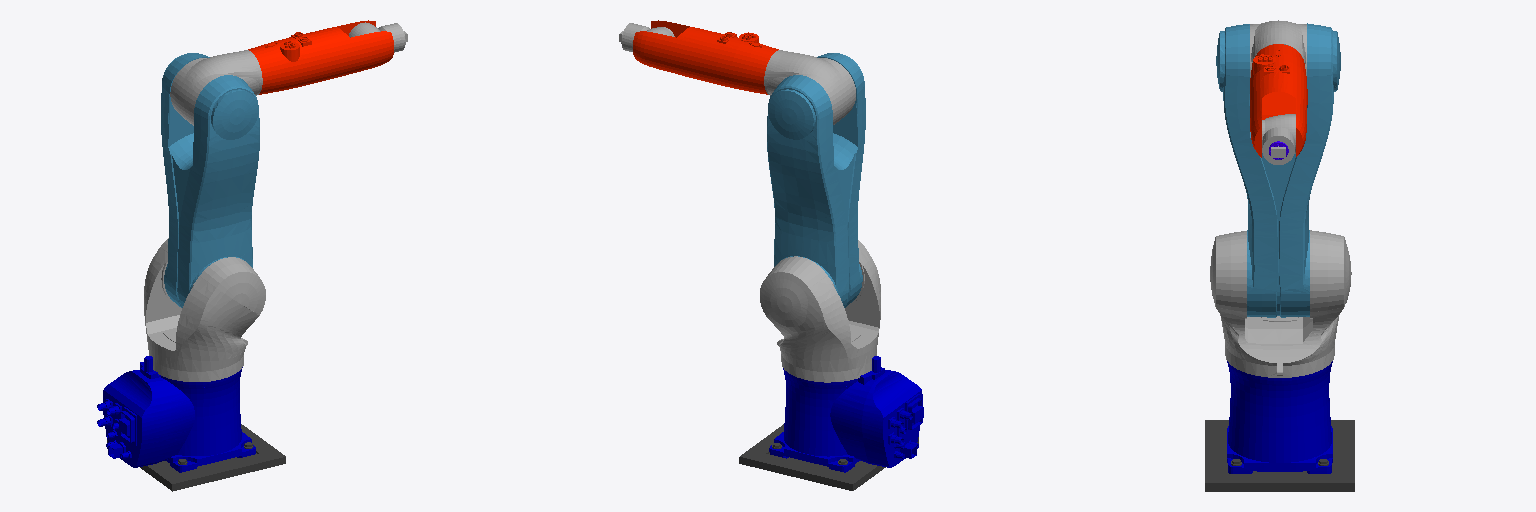
The robot description file, URDF, robot "kuca":
<?xml version="1.0" ?>
<robot name="kuca">
  <material name="DarkGrey">
    <color rgba="0.3 0.3 0.3 1.0"/>
  </material>
  <material name="Red">
    <color rgba="0.8 0.1 0.1 1.0"/>
  </material>
  <material name="Black">
    <color rgba="0 0 0 1.0"/>
  </material>
  <material name="Orange">
    <color rgba="1.46 0.18 0 1.0"/>
  </material>
  <material name="Purple">
    <color rgba="0.28 0 1 1.0"/>
  </material>
  <material name="Silver">
    <color rgba="0.7 0.7 0.7 1.0"/>
  </material>
  <material name="Blue">
    <color rgba="0.0 0.0 0.8 1.0"/>
  </material>
  <material name="HandGray">
    <color rgba="0.953 0.996 0.694 1.0"/>
  </material>
  <material name="SickBlue">
    <color rgba="0.3058 0.5921 0.7294 1.0"/>
  </material>
  <property name="M_PI" value="3.1415926535897931" />

  <link name="base_footprint"/>
  <joint name="base_joint" type="fixed">
    <parent link="base_footprint" />
    <child link="base_block" />
  </joint>
  <link name="base_block">
    <inertial>
      <origin
        xyz="1.037E-17 7.83691112281593E-18 0.0082118"
        rpy="0 0 0" />
      <mass
        value="1.4148" />
      <inertia
        ixx="0.0114960388311253"
        ixy="1.89424360274643E-19"
        ixz="2.69057794485044E-19"
        iyy="0.0114960388311253"
        iyz="5.63211128145318E-19"
        izz="0.0229111452195995" />
    </inertial>
    <visual>
      <origin
        xyz="0 0 0"
        rpy="1.5707963267949 0 -1.5707963267949" />
      <geometry>
        <mesh
          filename="package://kuca/meshes/base_block.STL" />
      </geometry>
      <material
        name="DarkGrey">
      </material>
    </visual>
    <collision>
      <origin
        xyz="0 0 0"
        rpy="1.5707963267949 0 -1.5707963267949" />
      <geometry>
        <mesh
          filename="package://kuca/meshes/base_block.STL" />
      </geometry>
    </collision>
  </link>


  <link
    name="base">
    <inertial>
      <origin
        xyz="5.6349E-05 -0.04397 -0.017791"
        rpy="0 0 0" />
      <mass
        value="10.172" />
      <inertia
        ixx="0.102023800624414"
        ixy="-0.000107116174504951"
        ixz="-9.75248573495788E-06"
        iyy="0.062609943615707"
        iyz="-0.00142550304062349"
        izz="0.0916918280232079" />
    </inertial>
    <visual>
      <origin
        xyz="0 0 0"
        rpy="1.5707963267949 0 -1.5707963267949" />
      <geometry>
        <mesh
          filename="package://kuca/meshes/base.STL" />
      </geometry>
      <material
        name="Blue">
      </material>
    </visual>
    <collision>
      <origin
        xyz="0 0 0"
        rpy="1.5707963267949 0 -1.5707963267949" />
      <geometry>
        <mesh
          filename="package://kuca/meshes/base.STL" />
      </geometry>
    </collision>
  </link>


  <link
    name="shoulder_link">
    <inertial>
      <origin
        xyz="0.0026224 -0.010587 0.12449"
        rpy="0 0 0" />
      <mass
        value="6.8543" />
      <inertia
        ixx="0.0603332762386758"
        ixy="-0.000112250807649033"
        ixz="0.000740664456382333"
        iyy="0.0888387681852521"
        iyz="0.00782667396558345"
        izz="0.0647349454810532" />
    </inertial>
    <visual>
      <origin
        xyz="0 0 0"
        rpy="1.5707963267949 0 1.5707963267949" />
      <geometry>
        <mesh
          filename="package://kuca/meshes/shoulder.STL" />
      </geometry>
      <material
        name="Silver">
      </material>
    </visual>
    <collision>
      <origin
        xyz="0 0 0"
        rpy="1.5707963267949 0 1.5707963267949" />
      <geometry>
        <mesh
          filename="package://kuca/meshes/shoulder.STL" />
      </geometry>
    </collision>
  </link>




  <link
    name="arm_b">
    <inertial>
      <origin
        xyz="0.00011216 2.06500000013295E-07 0.21713"
        rpy="0 0 0" />
      <mass
        value="11.489" />
      <inertia
        ixx="0.331397608900224"
        ixy="2.49938270567373E-08"
        ixz="-0.000215486662794939"
        iyy="0.344625387728064"
        iyz="-1.88762475058406E-07"
        izz="0.0590170414718575" />
    </inertial>
    <visual>
      <origin
        xyz="0 0 0"
        rpy="1.5707963267949 0 -1.5707963267949" />
      <geometry>
        <mesh
          filename="package://kuca/meshes/arm_b.STL" />
      </geometry>
      <material
        name="SickBlue">
      </material>
    </visual>
    <collision>
      <origin
        xyz="0 0 0"
        rpy="1.5707963267949 0 -1.5707963267949" />
      <geometry>
        <mesh
          filename="package://kuca/meshes/arm_b.STL" />
      </geometry>
    </collision>
  </link>


  <link
    name="elbow_link">
    <inertial>
      <origin
        xyz="-4.7606E-07 -0.01528 0.0092017"
        rpy="0 0 0" />
      <mass
        value="2.755" />
      <inertia
        ixx="0.0104371376924703"
        ixy="2.6533905193E-08"
        ixz="-4.60729058315338E-08"
        iyy="0.00758558375613676"
        iyz="0.00135288427713708"
        izz="0.00932285267361665" />
    </inertial>
    <visual>
      <origin
        xyz="0 0 0"
        rpy="1.5707963267949 0 1.5707963267949" />
      <geometry>
        <mesh
          filename="package://kuca/meshes/elbow.STL" />
      </geometry>
      <material
        name="Silver">
      </material>
    </visual>
    <collision>
      <origin
        xyz="0 0 0"
        rpy="1.5707963267949 0 1.5707963267949" />
      <geometry>
        <mesh
          filename="package://kuca/meshes/elbow.STL" />
      </geometry>
    </collision>
  </link>


  <link
    name="arm_s">
    <inertial>
      <origin
        xyz="0.13364 -0.00024742 0.00047158"
        rpy="0 0 0" />
      <mass
        value="2.7294" />
      <inertia
        ixx="0.00460008200188941"
        ixy="3.62991158649236E-05"
        ixz="-5.99299167518797E-05"
        iyy="0.0196337744489857"
        iyz="3.41608949422413E-05"
        izz="0.0199430288231592" />
    </inertial>
    <visual>
      <origin
        xyz="0 0 0"
        rpy="1.5707963267949 0 0" />
      <geometry>
        <mesh
          filename="package://kuca/meshes/arm_s.STL" />
      </geometry>
      <material
        name="Orange">
      </material>
    </visual>
    <collision>
      <origin
        xyz="0 0 0"
        rpy="1.5707963267949 0 0" />
      <geometry>
        <mesh
          filename="package://kuca/meshes/arm_s.STL" />
      </geometry>
    </collision>
  </link>


  <link
    name="hand_base">
    <inertial>
      <origin
        xyz="-4.3071E-18 -0.0059096 4.77958466854274E-17"
        rpy="0 0 0" />
      <mass
        value="0.013336" />
      <inertia
        ixx="1.69048792206978E-06"
        ixy="2.35299624289122E-22"
        ixz="-7.52863604393964E-22"
        iyy="2.98903665829106E-06"
        iyz="2.34800683625242E-21"
        izz="1.69048792206977E-06" />
    </inertial>
    <visual>
      <origin
        xyz="0 0 0"
        rpy="1.5707963267949 0 1.5707963267949" />
      <geometry>
        <mesh
          filename="package://kuca/meshes/hand_base.STL" />
      </geometry>
      <material
        name="Purple">
      </material>
    </visual>
    <collision>
      <origin
        xyz="0 0 0"
        rpy="1.5707963267949 0 1.5707963267949" />
      <geometry>
        <mesh
          filename="package://kuca/meshes/hand_base.STL" />
      </geometry>
    </collision>
  </link>


  <link
    name="wrist_link">
    <inertial>
      <origin
        xyz="0.0020848 -0.015368 3.4479000000941E-08"
        rpy="0 0 0" />
      <mass
        value="0.44218" />
      <inertia
        ixx="0.000527507627789706"
        ixy="1.79837648816872E-05"
        ixz="-7.11888768534321E-10"
        iyy="0.00031938655071935"
        iyz="-5.96429677534505E-10"
        izz="0.000560139929899567" />
    </inertial>
    <visual>
      <origin
        xyz="0 0 0"
        rpy="1.5707963267949 0 1.5707963267949" />
      <geometry>
        <mesh
          filename="package://kuca/meshes/wrist.STL" />
      </geometry>
      <material
        name="Silver">
      </material>
    </visual>
    <collision>
      <origin
        xyz="0 0 0"
        rpy="1.5707963267949 0 1.5707963267949" />
      <geometry>
        <mesh
          filename="package://kuca/meshes/wrist.STL" />
      </geometry>
    </collision>
  </link>

  <joint name="fixed_joint" type="fixed">
    <origin xyz="0 0 0.14336"/>
    <parent link="base_block"/>
    <child link="base"/>
  </joint>
  <joint name="base_shoulder_joint" type="continuous">
    <origin xyz="0 0 0.08657"/>
    <axis xyz="0 0 1"/>
    <parent link="base"/>
    <child link="shoulder_link"/>
  </joint>
  <joint name="shoulder_armb_joint" type="continuous">
    <origin xyz="0.03487 -0.0028 0.19512"/>
    <axis xyz="0 1 0" />
    <parent link="shoulder_link"/>
    <child link="arm_b"/>
  </joint>  
  <joint name="armb_elbow_joint" type="continuous">
    <origin xyz="0 0 0.46634"/>
    <axis xyz="0 1 0" />
    <parent link="arm_b"/>
    <child link="elbow_link"/>
  </joint>  
  <joint name="elbow_arms_joint" type="continuous">
    <origin xyz="0.1165 0 0.035"/>
    <axis xyz="1 0 0" />
    <parent link="elbow_link"/>
    <child link="arm_s"/>
  </joint>  
  <joint name="arms_handbase_joint" type="continuous">
    <origin xyz="0.303 0 0"/>
    <axis xyz="0 1 0" />
    <parent link="arm_s"/>
    <child link="wrist_link"/>
  </joint>
  <joint name="handbase_wrist_joint" type="continuous">
    <origin xyz="0.066252 0 0"/>
    <axis xyz="1 0 0" />
    <parent link="wrist_link"/>
    <child link="hand_base"/>
  </joint>

  
  <link name="gripper_base">
    <inertial>
      <origin
        xyz="2.3164E-19 8.88976163462408E-19 0.011563"
        rpy="0 0 0" />
      <mass
        value="0.0091416" />
      <inertia
        ixx="5.60915290578536E-07"
        ixy="-3.0881409535313E-23"
        ixz="-2.26976902761232E-23"
        iyy="8.10915290578536E-07"
        iyz="-1.05731144748763E-23"
        izz="8.0707963267949E-07" />
    </inertial>
    <visual>
      <origin
        xyz="0 0 0"
        rpy="0 0 -1.5707963267949" />
      <geometry>
        <mesh
          filename="package://kuca/meshes/gripper_base.STL" />
      </geometry>
      <material
        name="Silver">
      </material>
    </visual>
    <collision>
      <origin
        xyz="0 0 0"
        rpy="0 0 -1.5707963267949" />
      <geometry>
        <mesh
          filename="package://kuca/meshes/gripper_base.STL" />
      </geometry>
    </collision>
  </link>
  
  <joint name="handbase_gripperbase_joint" type="fixed">
    <origin xyz="0.0060 0 0"/>
    <parent link="hand_base"/>
    <child link="gripper_base"/>
  </joint>

  <link name="gripper_active_finger_link">
    <inertial>
      <mass value="0.00001"/>
      <origin xyz="0 0 0"/>
      <inertia ixx="1.0" ixy="0.0" ixz="0.0" iyy="1.0" iyz="0.0" izz="1.0"/>
    </inertial>
    <visual>
      <origin rpy="1.5707963267949 0 0" xyz=" 0 0 0 "/>
      <geometry>
        <mesh filename="package://kuca/meshes/finger.stl" scale="0.0005 0.0005 0.0005"/>
      </geometry>
      <material name="Red"/>
    </visual>
    <collision>
      <origin rpy="1.5707963267949 0 0" xyz=" 0 0 0 "/>
      <geometry>
        <mesh filename="package://kuca/meshes/finger.stl" scale="0.0005 0.0005 0.0005"/>
      </geometry>
    </collision>
  </link>
  <joint name="gripper_active_finger_joint" type="continuous">
    <origin rpy="0 0 0" xyz="0.020 -0.0151 0"/>
    <axis xyz="0 0 1" />
    <parent link="gripper_base"/>
    <child link="gripper_active_finger_link"/>
  </joint>
  <link name="gripper_static_finger_link">
    <inertial>
      <mass value="0.00001"/>
      <origin xyz="0 0 0"/>
      <inertia ixx="1.0" ixy="0.0" ixz="0.0" iyy="1.0" iyz="0.0" izz="1.0"/>
    </inertial>
    <visual>
      <origin rpy="-1.5707963267949 0 0" xyz=" 0 0 0 "/>
      <geometry>
        <mesh filename="package://kuca/meshes/finger.stl" scale="0.0005 0.0005 0.0005"/>
      </geometry>
      <material name="Red"/>
    </visual>
    <collision>
      <origin rpy="-1.5707963267949 0 0" xyz=" 0 0 0 "/>
      <geometry>
        <mesh filename="package://kuca/meshes/finger.stl" scale="0.0005 0.0005 0.0005"/>
      </geometry>
    </collision>
  </link>
  <joint name="gripper_static_finger_joint" type="fixed">
    <origin rpy="0 0 0" xyz="0.020 0.0151 0"/>
    <parent link="gripper_base"/>
    <child link="gripper_static_finger_link"/>
  </joint>
  <joint name="gripper_joint" type="fixed">
    <origin rpy="0 0 0" xyz="0.046 0 0"/>
    <parent link="gripper_base"/>
    <child link="gripper_link"/>
  </joint>
  <link name="gripper_link">
    <visual>
      <origin rpy="0 0 0" xyz="0 0 0"/>
      <geometry>
        <box size="0.001 0.001 0.001"/>
      </geometry>
    </visual>
    <collision>
      <origin rpy="0 0 0" xyz="-0.05 0 0"/>
      <geometry>
        <box size="0.001 0.001 0.001"/>
      </geometry>
    </collision>
    <!--inertial>
         <mass value="0.0012" />
         <origin xyz="0 0 0"/>
         <inertia ixx="2e-8" ixy="0.0" ixz="0.0"
          iyy="2e-8" iyz="0.0"
          izz="2e-8" />
      </inertial -->
  </link>

</robot>

--- What the picture shows (computed from the rendered views, not written in the file) ---
3 views of the same robot in one strip: view 1: azimuth 30°, elevation 25°; view 2: azimuth 150°, elevation 25°; view 3: azimuth 270°, elevation 25° (orthographic).
Model kuca with 13 links and 12 joints (7 continuous, 5 fixed), rooted at base_footprint, posed every joint at zero.
Visible links, largest first — view 1: arm_b, base, shoulder_link, arm_s, elbow_link, base_block, wrist_link; view 2: arm_b, base, shoulder_link, arm_s, elbow_link, base_block, wrist_link; view 3: arm_b, shoulder_link, base, base_block, arm_s, elbow_link, wrist_link.
Link boxes in pixels (<box>): arm_b: <box>161,53,259,307</box>; base: <box>97,356,255,472</box>; shoulder_link: <box>144,238,265,381</box>; arm_s: <box>248,20,393,94</box>; elbow_link: <box>170,50,262,125</box>; base_block: <box>107,424,285,491</box>; wrist_link: <box>349,22,405,52</box>; arm_b: <box>767,53,865,307</box>; base: <box>769,356,923,472</box>; shoulder_link: <box>760,240,880,382</box>; arm_s: <box>633,20,778,94</box>; elbow_link: <box>764,50,855,124</box>; base_block: <box>739,424,918,490</box>; wrist_link: <box>621,23,674,51</box>; arm_b: <box>1216,23,1340,317</box>; shoulder_link: <box>1210,230,1351,377</box>; base: <box>1227,361,1332,473</box>; base_block: <box>1205,420,1354,491</box>; arm_s: <box>1250,44,1307,157</box>; elbow_link: <box>1250,20,1306,77</box>; wrist_link: <box>1262,114,1295,164</box>.
Bounding box of the posed robot: 0.7981 × 0.3 × 0.9899 m (x, y, z).
9 mesh visuals loaded from 10 distinct referenced files (9 binary STL); not drawn: 2 (reference not matched to a file when rendering).
